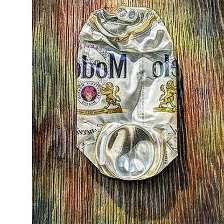can: (69, 3, 181, 181)
